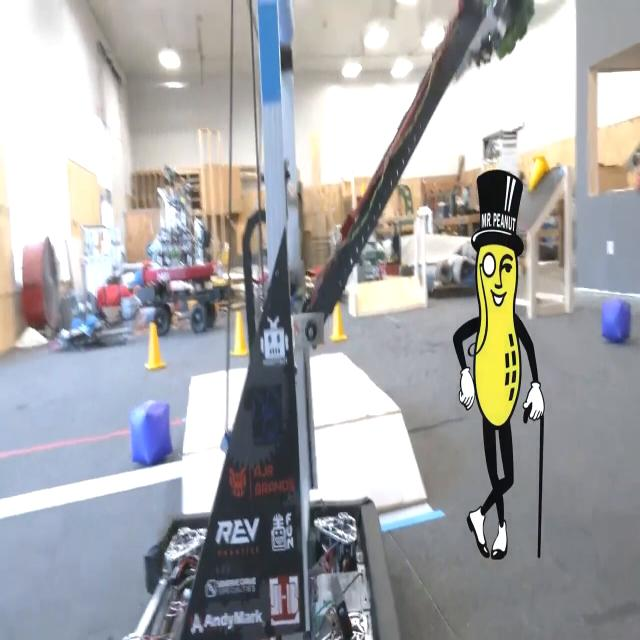frc_cone: (527, 149, 555, 192), (144, 321, 165, 372), (230, 309, 248, 359), (331, 297, 346, 341)
frc_cube: (125, 395, 173, 469), (600, 298, 631, 346)
